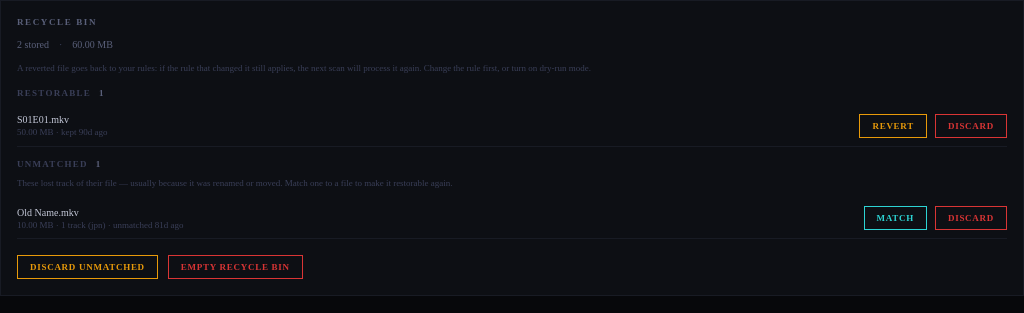
Scenario: confirmation › does not revert on the first click
What coordinates should you click on to do the following:
click the button "REVERT"
I would click on:
 (893, 126)
Its box is [859,114,927,138].
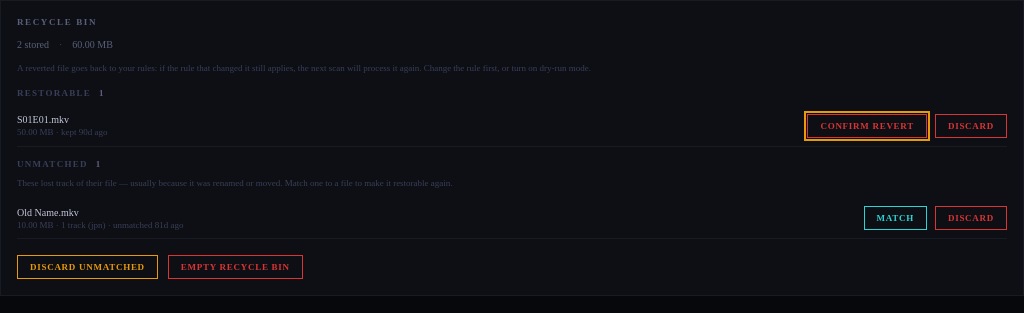
Expected: the button "CONFIRM REVERT" is shown, [807,114,927,138]
